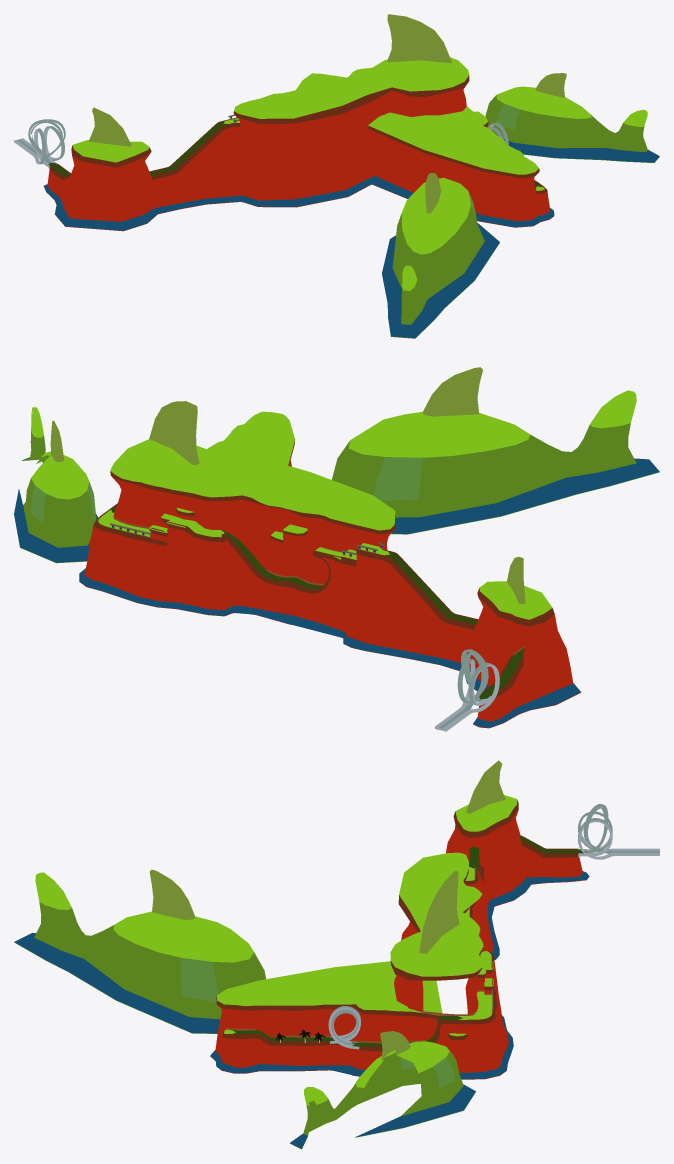
File: Chunk2.obj
The picture shows the model from 3 angles, top to bottom: view 1: azimuth 30°, elevation 25°; view 2: azimuth 150°, elevation 25°; view 3: azimuth 270°, elevation 25°; orthographic projection. The views are drawn at different scales.
Size of the model in its own units: 6985 by 1838 by 6555.
